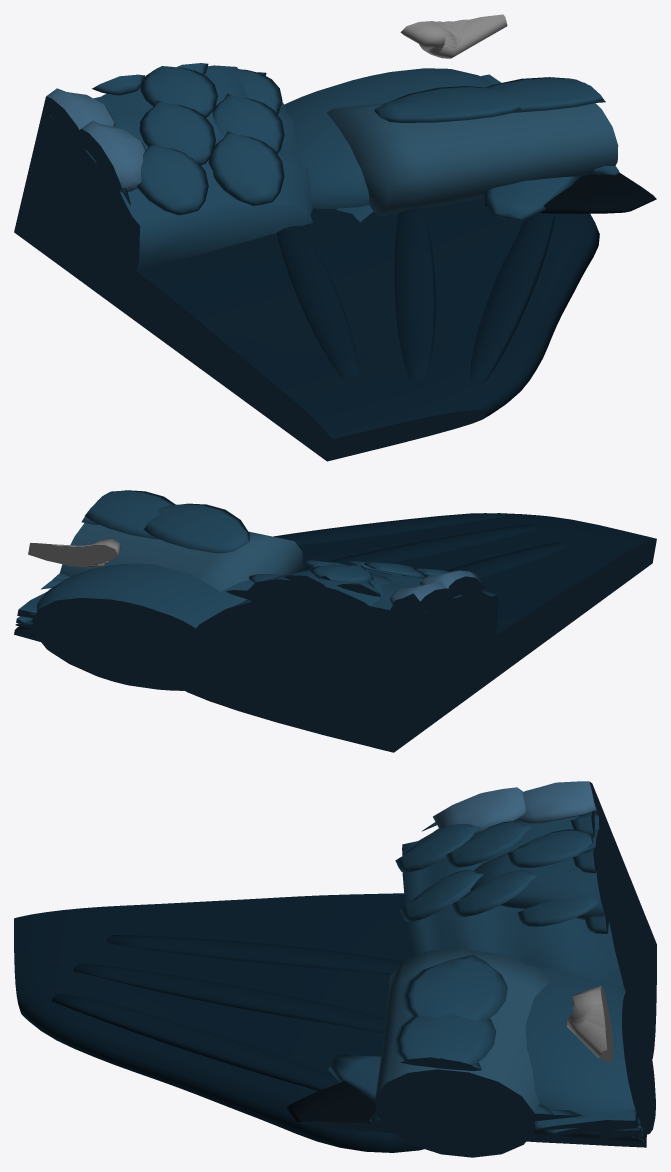
The model's file is gryphon_85.glb.
The picture shows the model from 3 angles, top to bottom: view 1: azimuth 30°, elevation 25°; view 2: azimuth 150°, elevation 25°; view 3: azimuth 270°, elevation 25°; orthographic projection. The views are drawn at different scales.
Visible parts, largest first — view 1: gryphon_85; view 2: gryphon_85; view 3: gryphon_85.
Part boxes in pixels (<box>): gryphon_85: <box>14,14,656,461</box>; gryphon_85: <box>14,490,656,752</box>; gryphon_85: <box>14,781,656,1157</box>.
Bounding box in the file's own units: 24 × 8.2 × 28.47.
